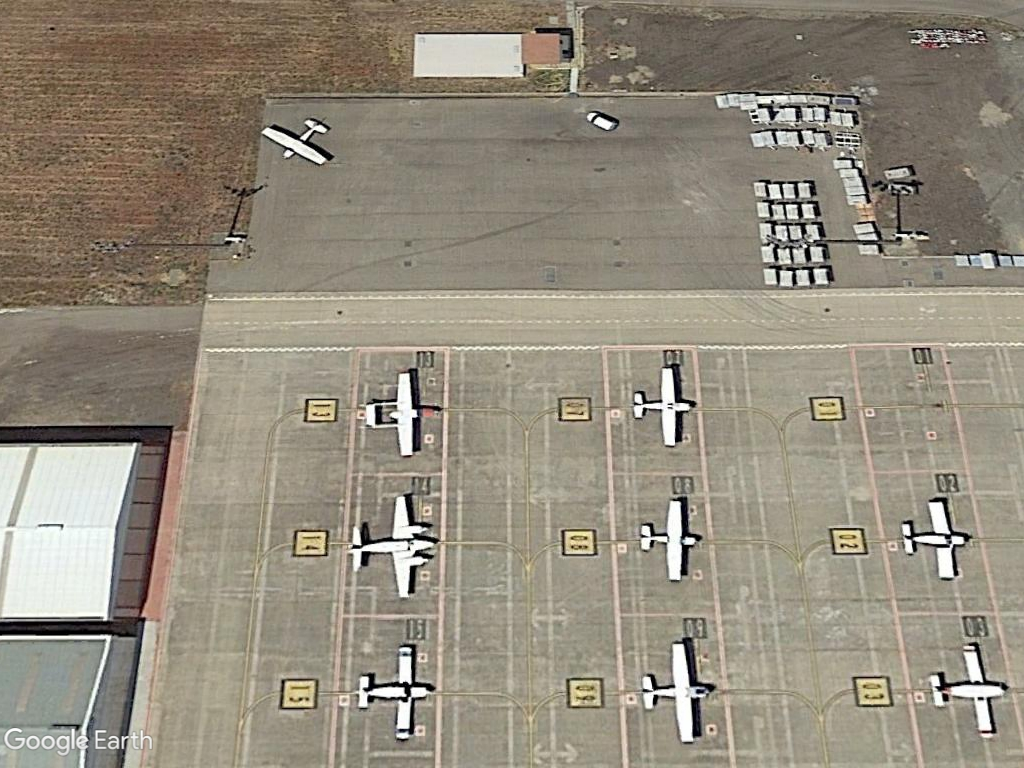trainer: (352, 638, 439, 748), (635, 637, 717, 751), (923, 634, 1010, 741), (631, 489, 705, 594), (897, 491, 972, 585), (626, 363, 698, 450), (256, 111, 338, 171)
